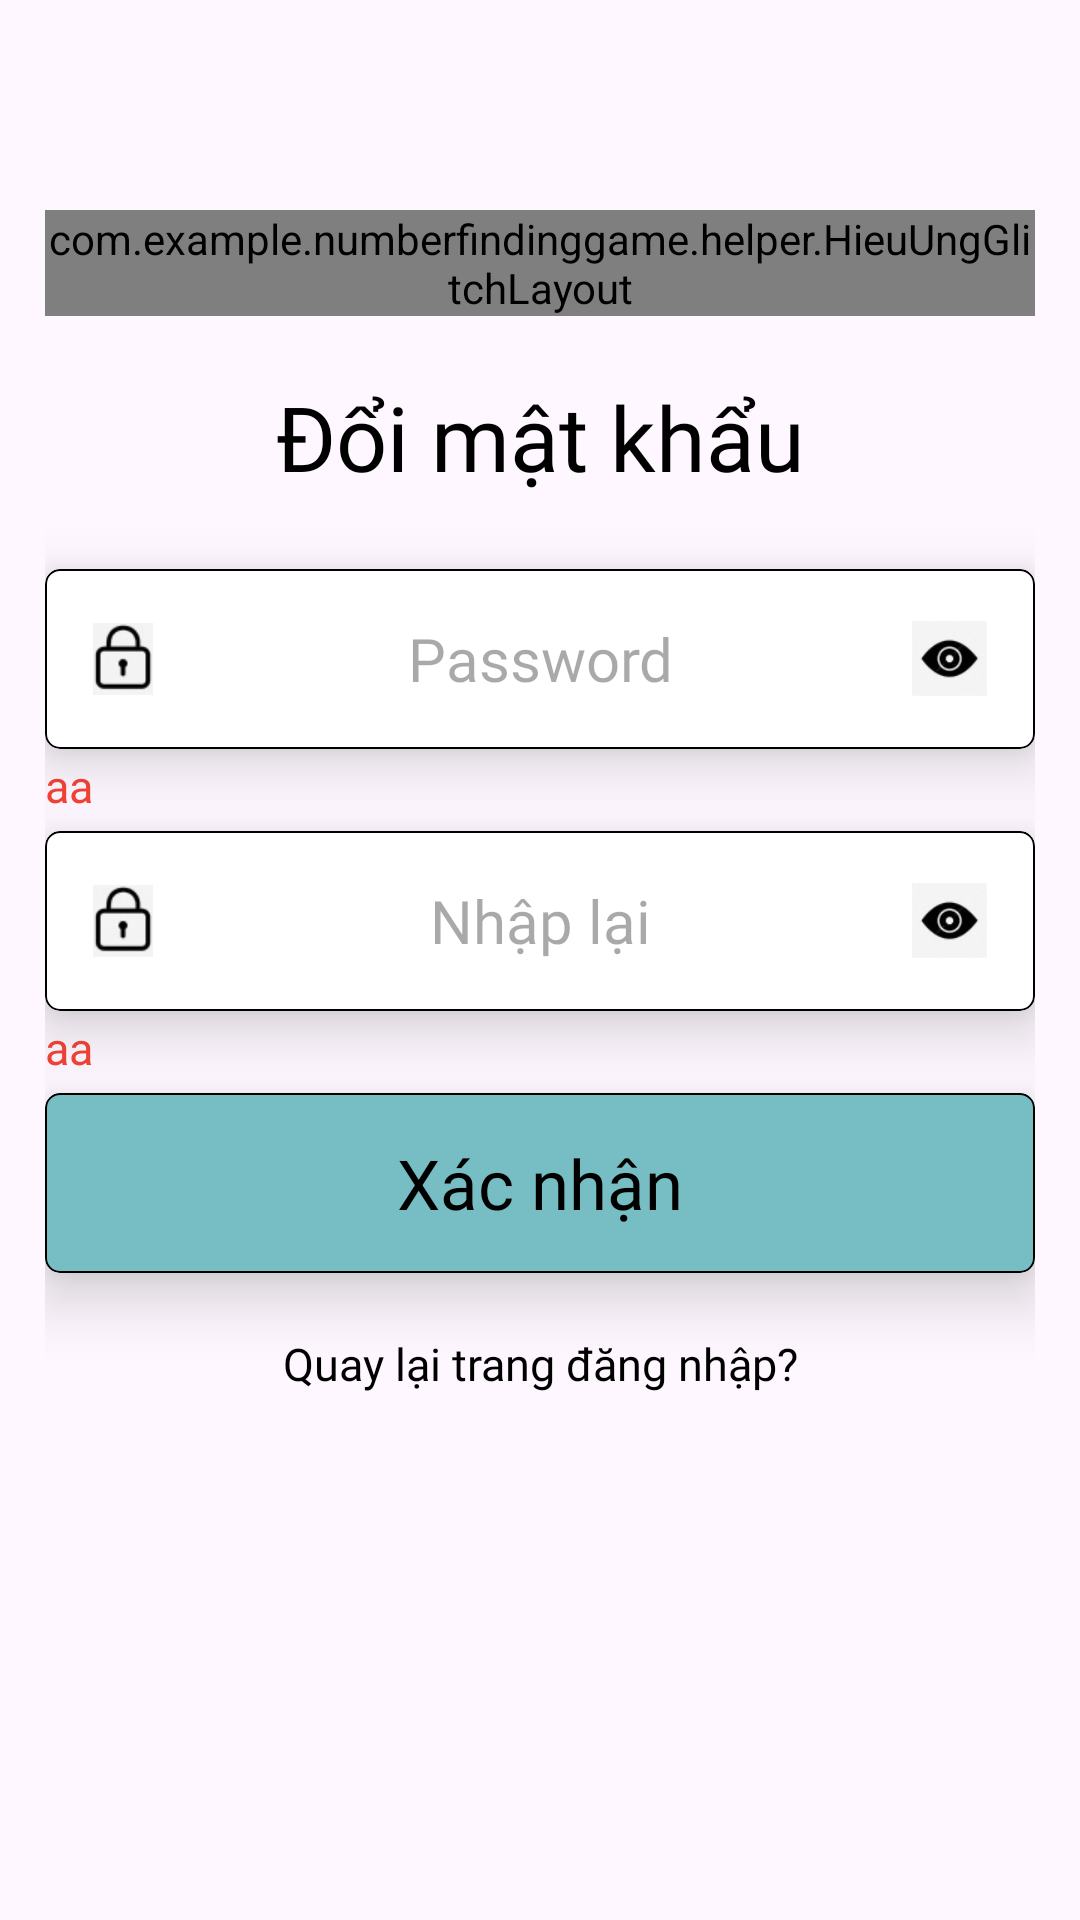

Named icons in this screenshot (1080px×1920px) and their centers, (x,y):
mat: (950,658), (950,920)
